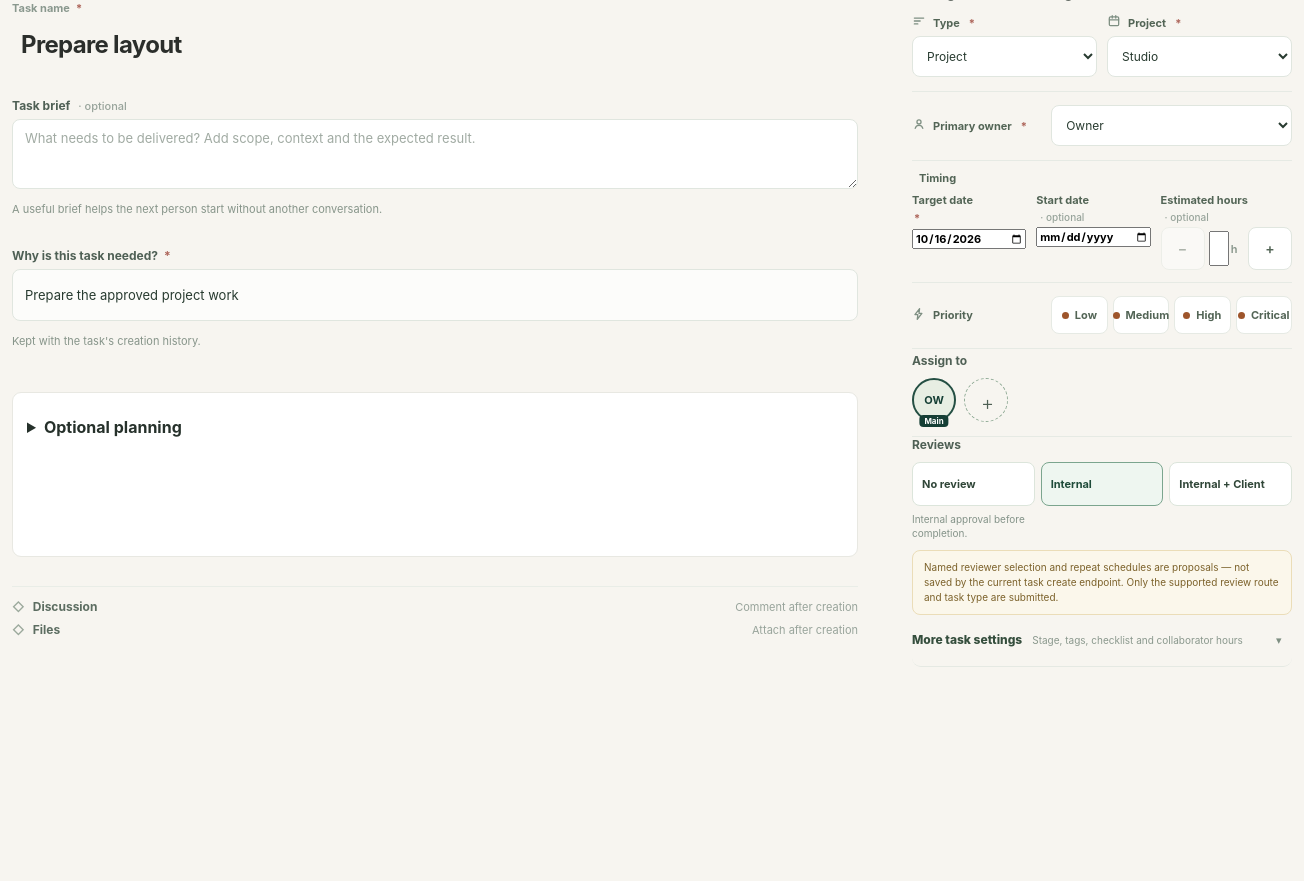
Scenario: shared task composer validation and fields › hides optional planning and collaborator sections for compact (non-owner) variants
The width and height of the screenshot is (1304, 881).
// Open the "More task settings" accordion first so the collaborator section becomes visible.
Click the button "More task settings" at (1102, 641), box [912,615,1292,667]
(page scrolled)
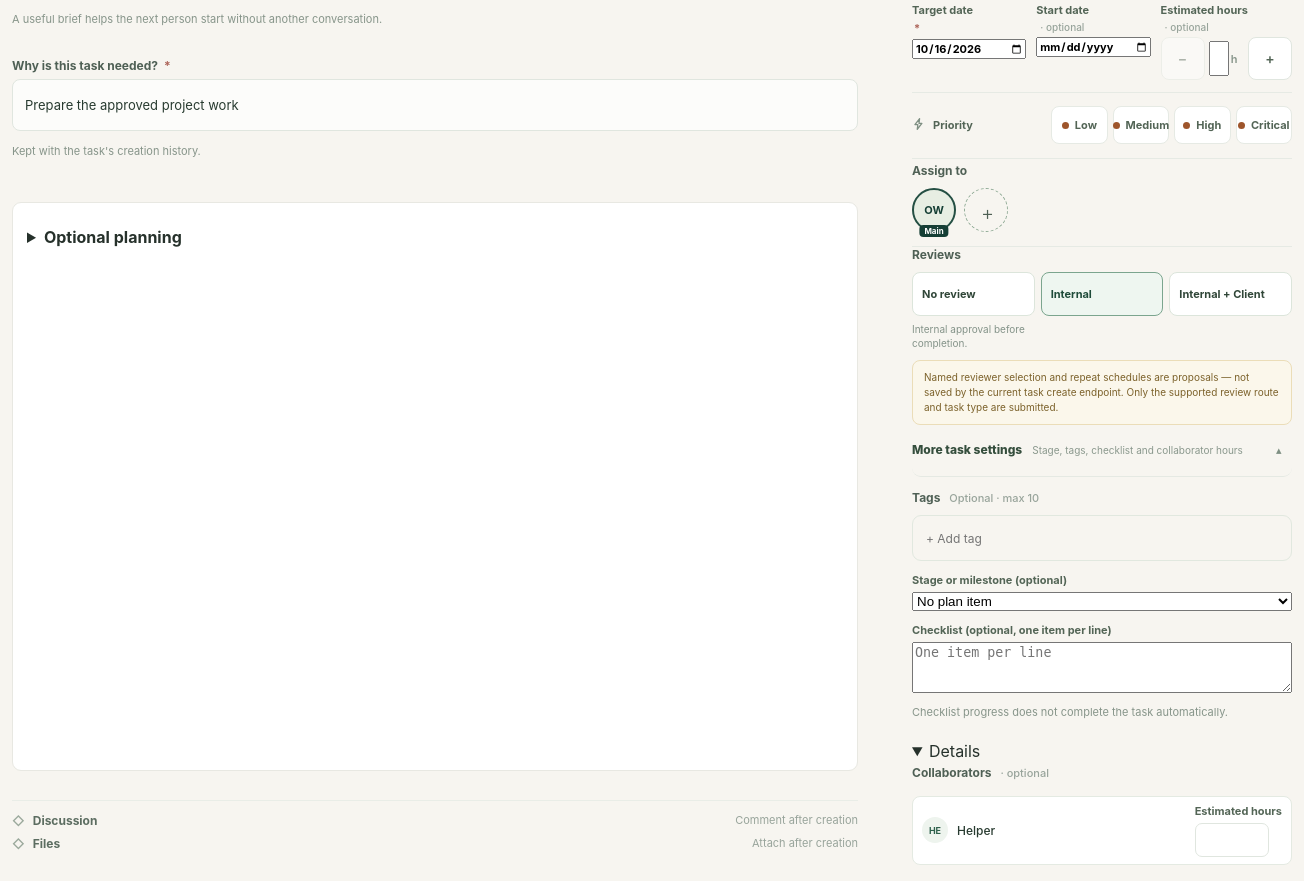
Expected: the heading "Optional planning" is shown, [44,227,182,247]
Now the element named "Collaborators (optional)" is shown, box [912,760,1292,868]
